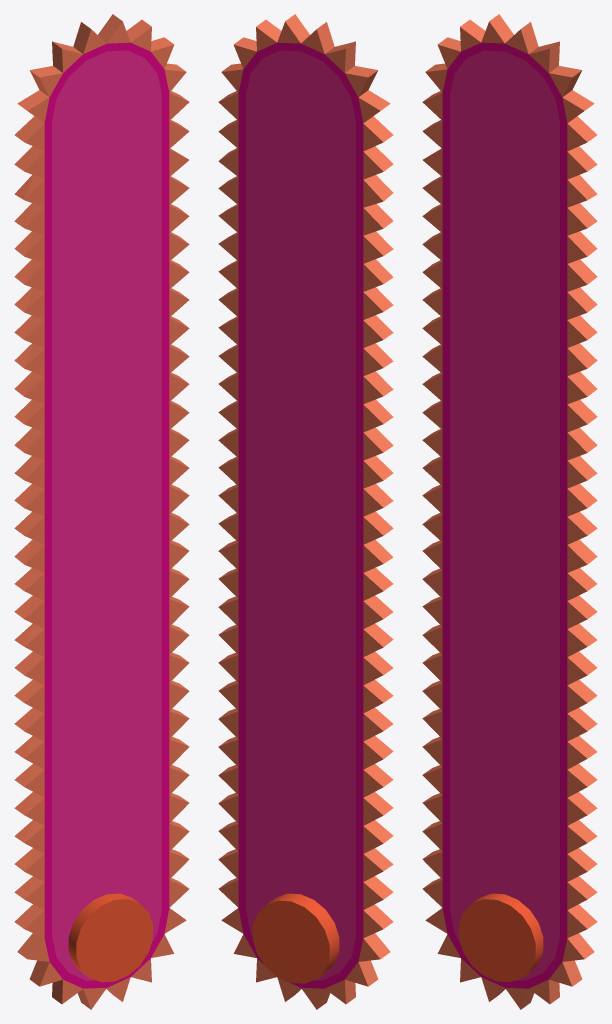
File: Trap_Flip.FBX
3 views of the same model, side by side, from view 1: azimuth 30°, elevation 25°; view 2: azimuth 150°, elevation 25°; view 3: azimuth 330°, elevation 25° (orthographic).
Parts seen in each view (by area): view 1: Trap_Flip; view 2: Trap_Flip; view 3: Trap_Flip.
Boxes of the visible parts, bbox=[...] form: Trap_Flip: bbox=[14, 14, 189, 1009]; Trap_Flip: bbox=[218, 14, 393, 1009]; Trap_Flip: bbox=[422, 14, 597, 1009].
Size of the model in its own units: 44.07 by 250 by 12.73.
